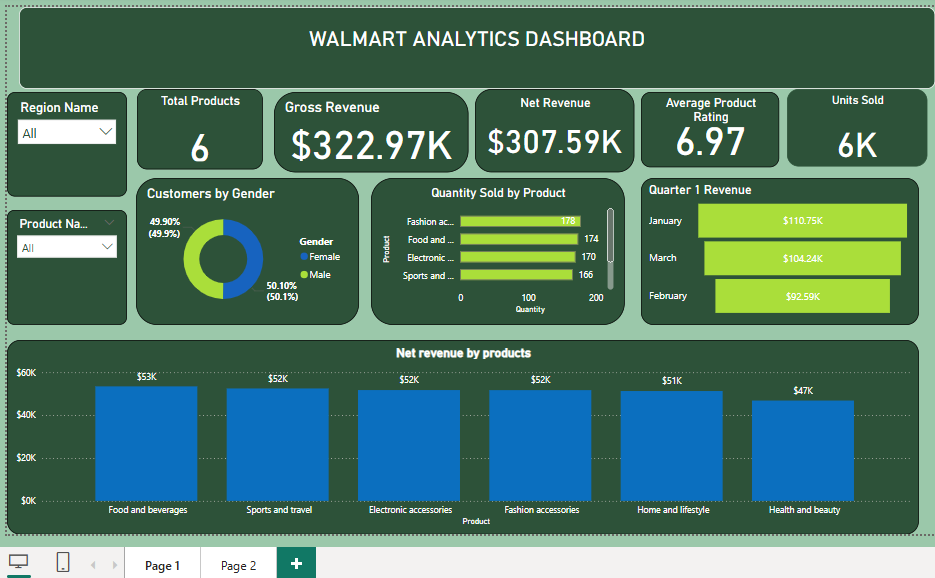

This screenshot's page, from the dashboard's own definition file:
{"tool":"powerbi","page":{"name":"Page 1","canvas":[1280,720],"ordinal":0},"visuals":[{"type":"clusteredBarChart","title":"Quantity Sold  by  Product","fields":{"Category":["Section 4-Power BI.Product"],"Y":["CountNonNull(Section 4-Power BI.Quantity)"]},"box":[497.8,233.9,346.6,200.6],"z":0},{"type":"card","title":"Gross Revenue","fields":{"Values":["Sum(Section 4-Power BI. Revenue )"]},"box":[365.5,115.9,266.2,110],"z":1000},{"type":"slicer","title":"Region","fields":{"Values":["Section 4-Power BI.Region"]},"box":[0,115.9,164.4,143.1],"z":2000},{"type":"card","title":"Average  Product Rating","fields":{"Values":["Avg(Section 4-Power BI.Rating)"]},"box":[866.8,116.1,189.5,102.7],"z":3000},{"type":"textbox","box":[16.4,0,1252.6,112.1],"z":4000},{"type":"funnel","title":"Quarter 1 Revenue","fields":{"Category":["Section 4-Power BI.Date.Variation.Date Hierarchy.Year","Section 4-Power BI.Date.Variation.Date Hierarchy.Quarter","Section 4-Power BI.Date.Variation.Date Hierarchy.Month"],"Y":["Section 4-Power BI.Net revenue"]},"box":[866.9,233.9,379.8,200.6],"z":5000},{"type":"columnChart","title":"Net revenue by products","fields":{"Y":["Section 4-Power BI.Net revenue"],"Category":["Section 4-Power BI.Product"]},"box":[0,454.9,1246.7,266.1],"z":6000},{"type":"donutChart","title":"Customers by Gender","fields":{"Category":["Section 4-Power BI.Gender"],"Y":["CountNonNull(Section 4-Power BI.Gender)"]},"box":[177,233.9,304.7,200.6],"z":7000},{"type":"cardVisual","title":"Total Products","fields":{"Data":["Count(Section 4-Power BI.Product)"]},"box":[177.4,112.4,171.5,110],"z":9000},{"type":"cardVisual","title":"Units Sold","fields":{"Data":["Sum(Section 4-Power BI.Quantity)"]},"box":[1067.3,112.5,191.9,106.4],"z":10000},{"type":"slicer","fields":{"Values":["Section 4-Power BI.Product"]},"box":[0,277.9,164.2,156.6],"z":11000},{"type":"card","title":"Net Revenue","fields":{"Values":["Section 4-Power BI.Net revenue"]},"box":[640.6,112.5,217.6,113.7],"z":12000}]}

Visuals, with their boxes in screenshot pixels (x1, y1, x2, y2):
"Quantity Sold  by  Product" clusteredBarChart: [left=361, top=176, right=611, bottom=320]
"Gross Revenue" card: [left=266, top=91, right=457, bottom=170]
"Region" slicer: [left=2, top=91, right=121, bottom=194]
"Average  Product Rating" card: [left=627, top=91, right=763, bottom=165]
textbox: [left=14, top=7, right=917, bottom=88]
"Quarter 1 Revenue" funnel: [left=627, top=176, right=901, bottom=320]
"Net revenue by products" columnChart: [left=2, top=335, right=901, bottom=527]
"Customers by Gender" donutChart: [left=130, top=176, right=349, bottom=320]
"Total Products" cardVisual: [left=130, top=88, right=254, bottom=168]
"Units Sold" cardVisual: [left=771, top=88, right=910, bottom=165]
slicer - Section 4-Power BI.Product: [left=2, top=207, right=121, bottom=320]
"Net Revenue" card: [left=464, top=88, right=621, bottom=170]
